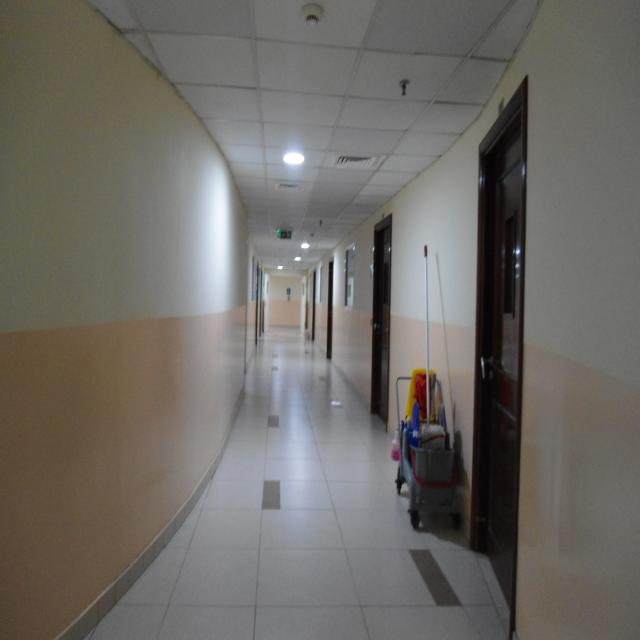door: (469, 69, 533, 640), (368, 217, 395, 430), (327, 262, 332, 371)
obstacle: (391, 236, 469, 543)
wall: (303, 0, 640, 640), (0, 0, 267, 640)
